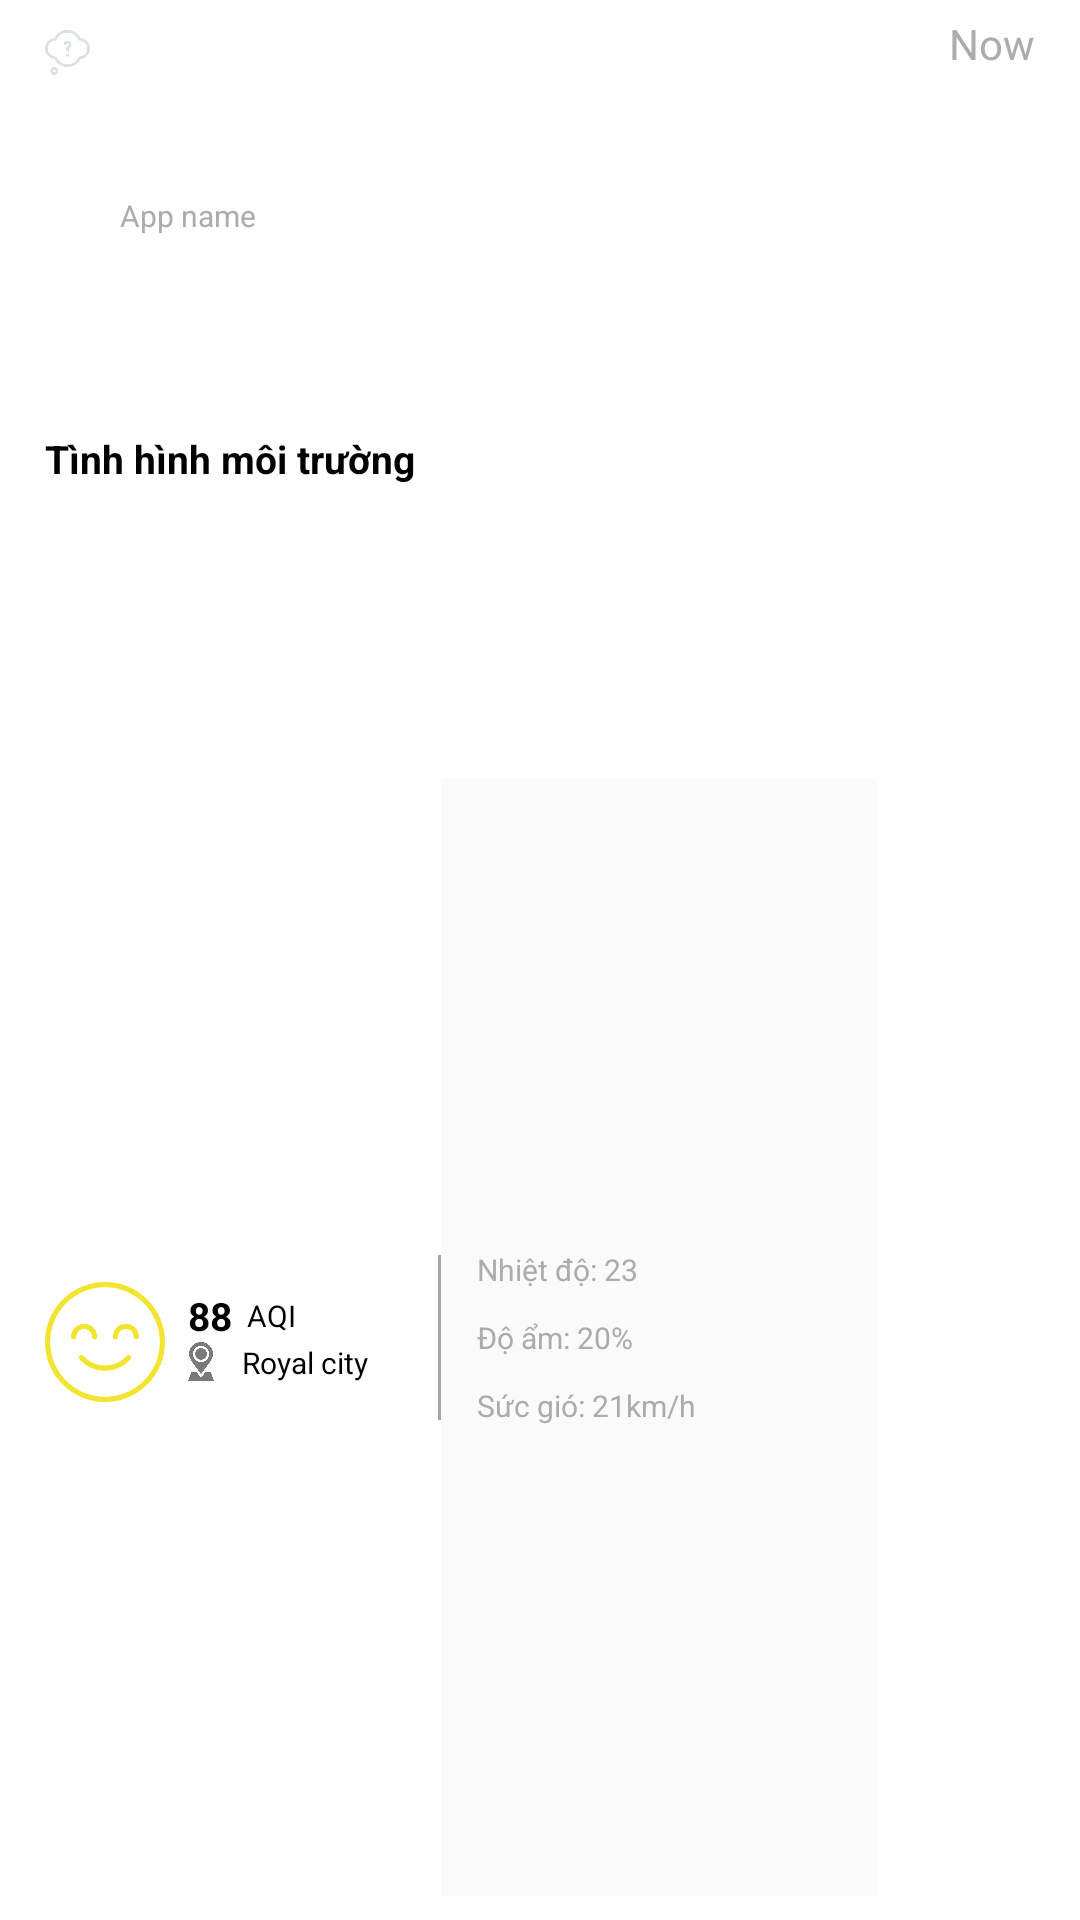

Screen size 1080*1920. Icon name, then its center in pixels as (x=x, y=y):
location: (x=201, y=1361)
question: (x=67, y=52)
smile: (x=105, y=1342)
